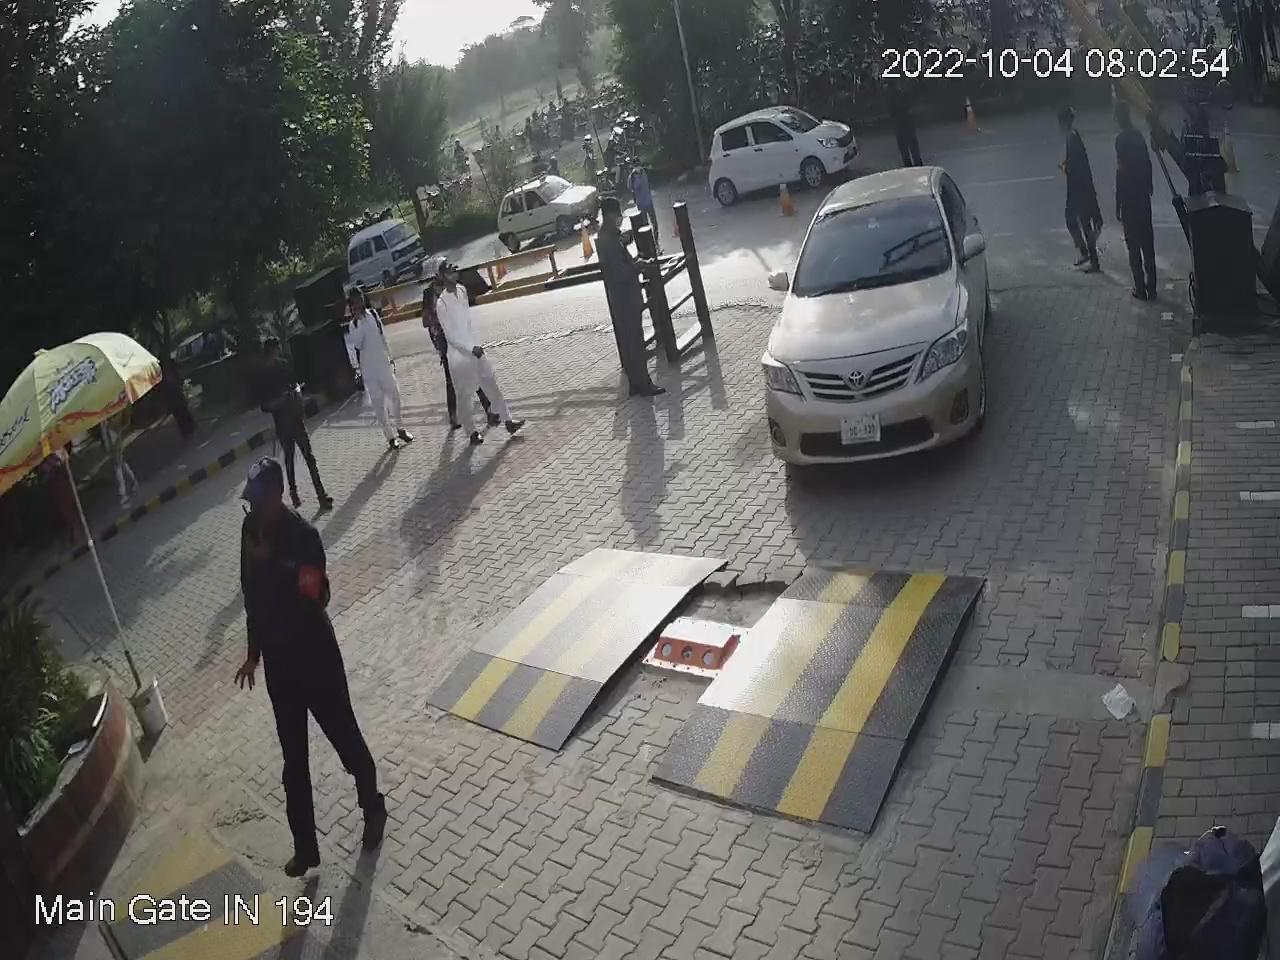windshield: (785, 175, 952, 303)
